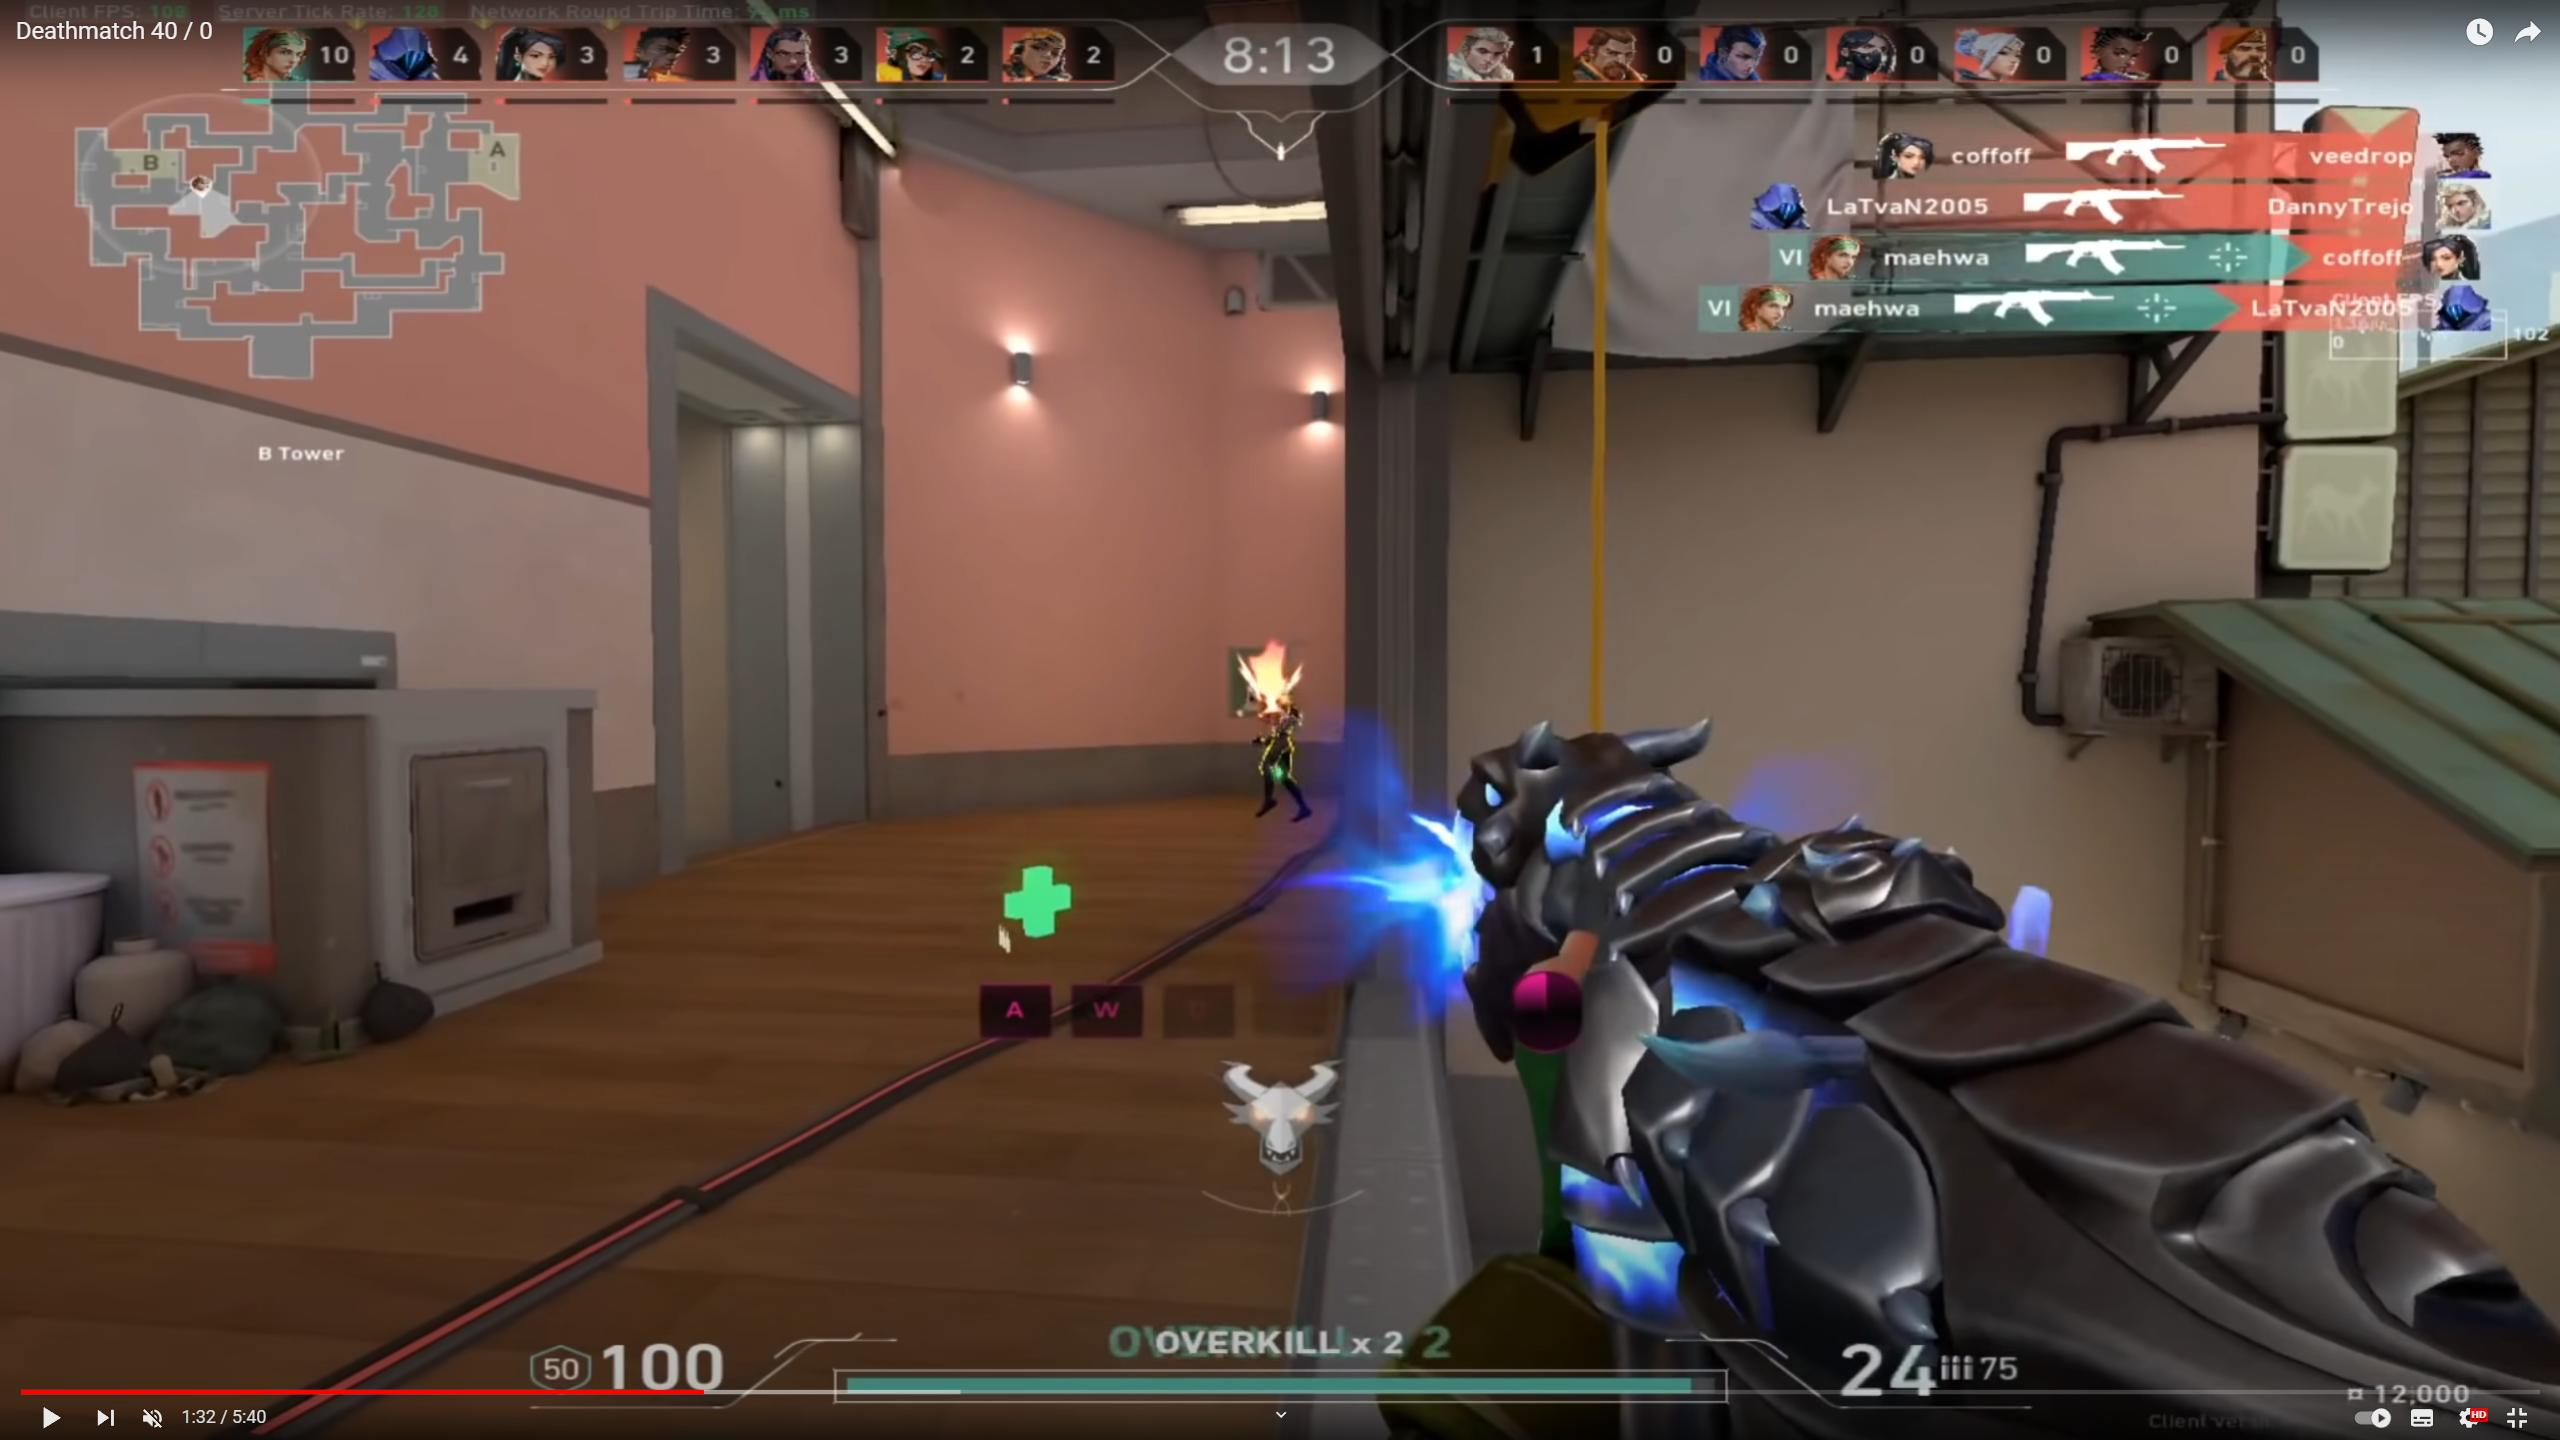enemyHead: (1245, 663, 1305, 730)
